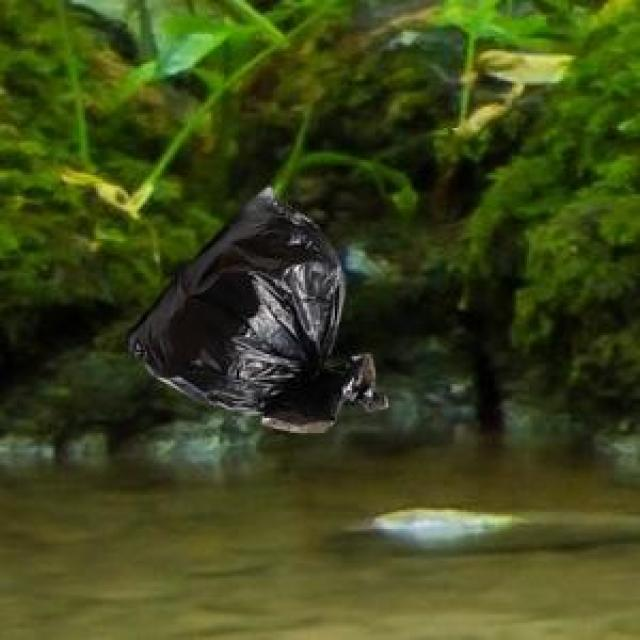miscellaneous trash: (120, 184, 384, 429)
